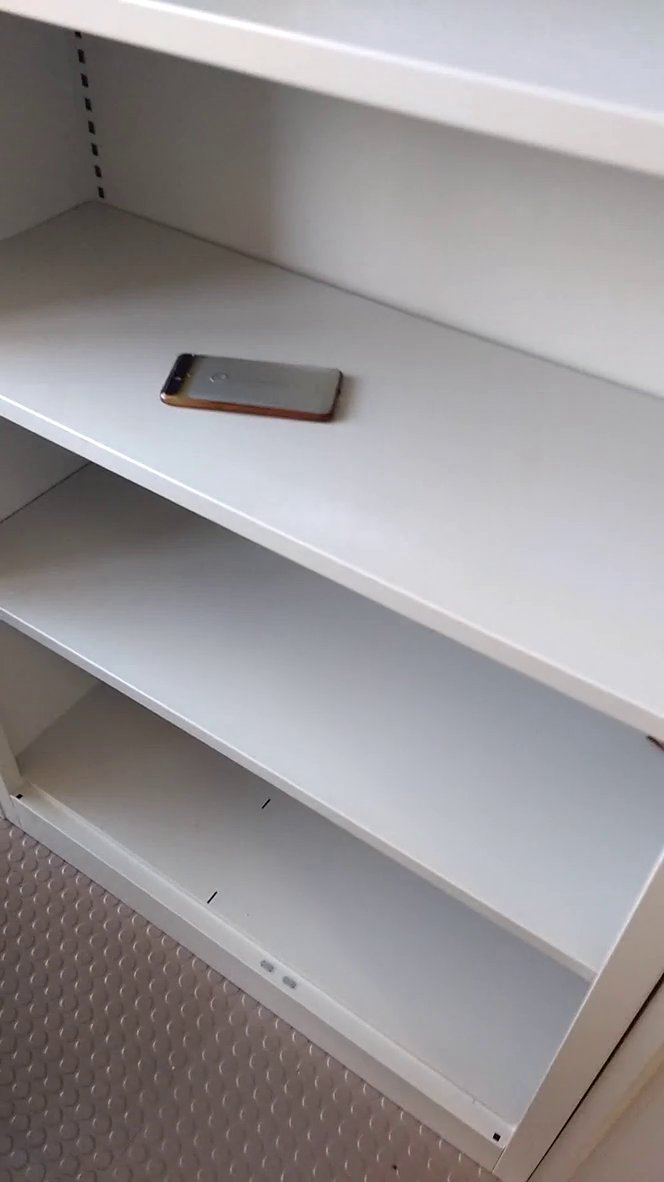phone: (153, 341, 358, 437)
